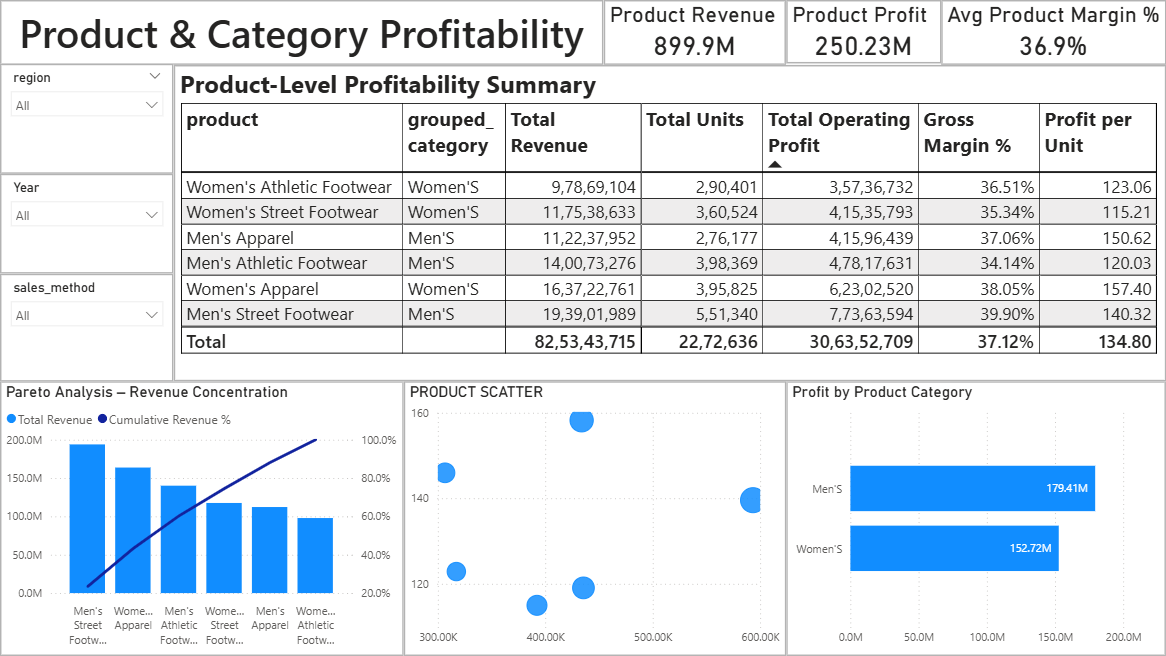

The page's visual inventory and layout, read from the dashboard file:
{"tool":"powerbi","page":{"name":"Product & Category Analysis","canvas":[1280,720],"ordinal":2},"visuals":[{"type":"textbox","box":[0,0,662.8,71.4],"z":0},{"type":"barChart","title":"Profit by Product Category","fields":{"Y":["Table.Total Operating Profit"],"Category":["Dim_Product.grouped_category"]},"box":[863.1,418.5,417.2,301.9],"z":1000},{"type":"lineStackedColumnComboChart","title":"Pareto Analysis – Revenue Concentration","fields":{"Category":["Dim_Product.product"],"Y2":["Table.Cumulative Revenue %"],"Y":["Table.Total Revenue"]},"box":[0,418.5,443.2,301.9],"z":2000},{"type":"card","title":"Product Profit","fields":{"Values":["Table.Net Profit After Alloc"]},"box":[863.1,0,170.2,70],"z":4000},{"type":"card","title":"Avg Product Margin %","fields":{"Values":["Table.Gross Margin %"]},"box":[1033.3,0,247,71.4],"z":5000},{"type":"card","title":"Product Revenue","fields":{"Values":["Table.Total Revenue"]},"box":[662.8,0,200.3,71.4],"z":6000},{"type":"slicer","fields":{"Values":["Dim_Date.Year"]},"box":[0,190.7,190.7,109.8],"z":7000},{"type":"slicer","fields":{"Values":["Dim_Region.region"]},"box":[0,70,190.7,120.8],"z":8000},{"type":"slicer","fields":{"Values":["Fact_Sales.sales_method"]},"box":[0,300.5,190.7,118],"z":9000},{"type":"tableEx","title":"Product-Level Profitability Summary","fields":{"Values":["Dim_Product.product","Dim_Product.grouped_category","Table.Total Revenue","Table.Total Units","Table.Total Operating Profit","Table.Gross Margin %","Table.Profit per Unit"]},"box":[190.7,71.4,1089.5,347.2],"z":10000},{"type":"scatterChart","title":"PRODUCT SCATTER","fields":{"X":["Table.Total Units"],"Category":["Dim_Product.product"],"Y":["Table.Profit per Unit"],"Size":["Table.Total Revenue"]},"box":[443.2,418.5,419.9,301.9],"z":11000}]}

Visuals, with their boxes in screenshot pixels (x1, y1, x2, y2), scaled from the page's 1280x720 canvas onto the 1166x656 screenshot:
textbox: bbox=(0, 0, 604, 65)
"Profit by Product Category" barChart: bbox=(786, 381, 1165, 655)
"Pareto Analysis – Revenue Concentration" lineStackedColumnComboChart: bbox=(0, 381, 404, 655)
"Product Profit" card: bbox=(786, 0, 941, 64)
"Avg Product Margin %" card: bbox=(941, 0, 1165, 65)
"Product Revenue" card: bbox=(604, 0, 786, 65)
slicer - Dim_Date.Year: bbox=(0, 174, 174, 274)
slicer - Dim_Region.region: bbox=(0, 64, 174, 174)
slicer - Fact_Sales.sales_method: bbox=(0, 274, 174, 381)
"Product-Level Profitability Summary" tableEx: bbox=(174, 65, 1165, 381)
"PRODUCT SCATTER" scatterChart: bbox=(404, 381, 786, 655)
